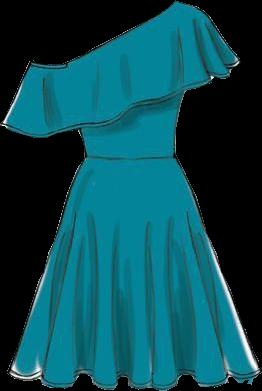Bodice: (0, 1, 239, 160)
Hemline: (6, 369, 261, 390)
Neckline: (28, 1, 177, 68)
Skirt: (7, 156, 259, 390)
Waistline: (1, 61, 242, 137), (84, 153, 178, 163)
